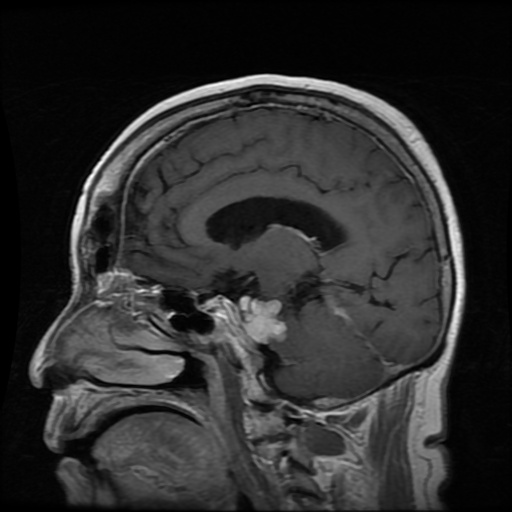meningioma: (238, 294, 287, 344)
